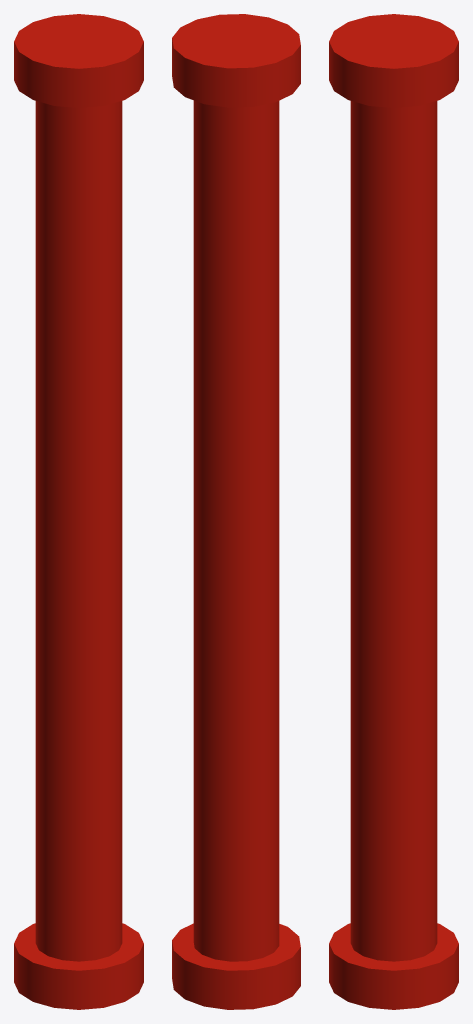
The model's file is Extra Parts 3 for Toy Villen.obj.
3 renders of one model, left to right at view 1: azimuth 90°, elevation 25°; view 2: azimuth 150°, elevation 25°; view 3: azimuth 270°, elevation 25°, orthographic.
Parts seen in each view (by area): view 1: Piece000; view 2: Piece000; view 3: Piece000.
Part boxes in pixels (x1,y1,x2,y2): Piece000: [14, 14, 143, 1009]; Piece000: [172, 14, 300, 1009]; Piece000: [329, 14, 458, 1009].
Bounding box in the file's own units: 12 × 96 × 12.
